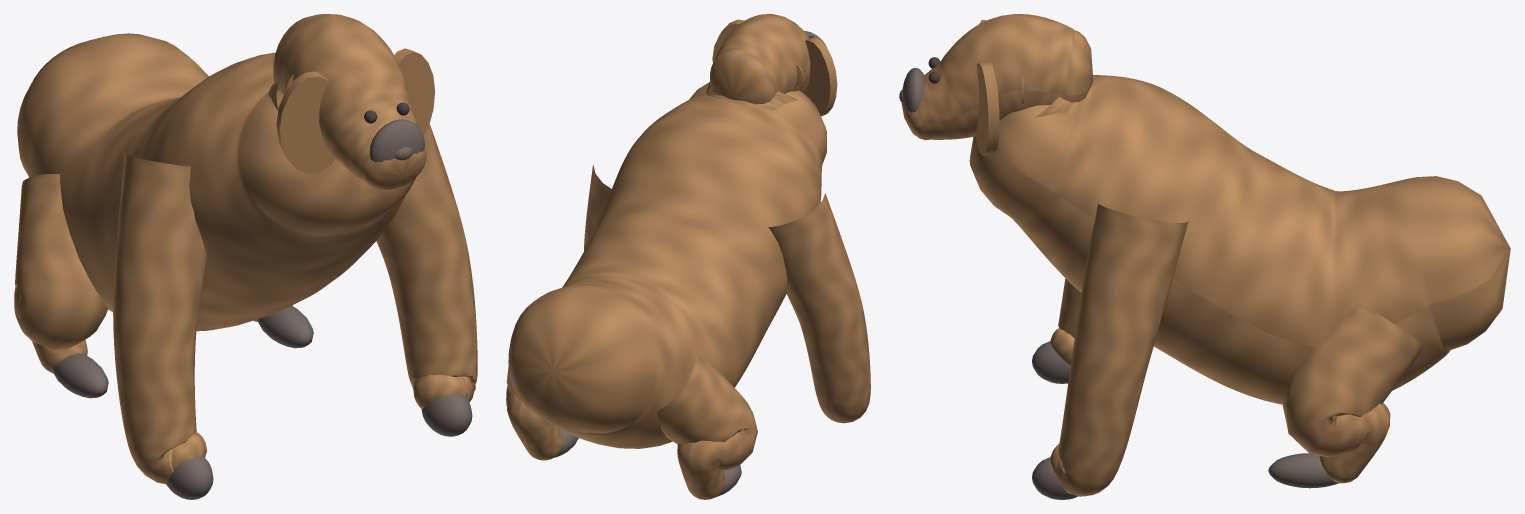
Rendered from other-orangutan.glb.
3 views of the same model, side by side, from view 1: azimuth 30°, elevation 25°; view 2: azimuth 150°, elevation 25°; view 3: azimuth 270°, elevation 25° (orthographic). The views are drawn at different scales.
Visible parts, largest first — view 1: orangutan; view 2: orangutan; view 3: orangutan.
Boxes of the visible parts, box(x1,y1,x2,y2) form: orangutan: box(14, 14, 477, 499); orangutan: box(506, 14, 870, 499); orangutan: box(899, 14, 1510, 499).
Bounding box in the file's own units: 0.9649 × 1.22 × 1.6.
Materials: 4 (2 with a texture image).
